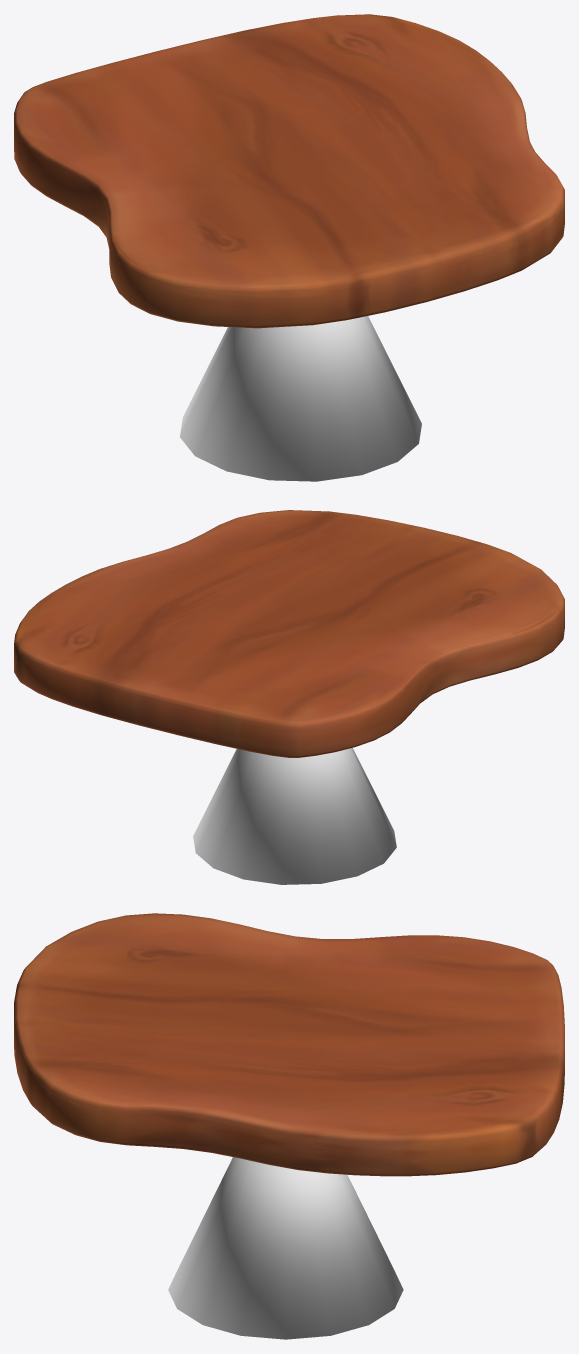
The model's file is SM_Table_low.fbx.
3 views of the same model, one above another, from view 1: azimuth 30°, elevation 25°; view 2: azimuth 150°, elevation 25°; view 3: azimuth 270°, elevation 25° (orthographic). The views are drawn at different scales.
Parts seen in each view (by area): view 1: ShroomTableTop.002, ShroomTableLegCone; view 2: ShroomTableTop.002, ShroomTableLegCone; view 3: ShroomTableTop.002, ShroomTableLegCone.
Part boxes in pixels (<box>): ShroomTableTop.002: <box>14,14,564,328</box>; ShroomTableLegCone: <box>180,316,421,481</box>; ShroomTableTop.002: <box>14,510,564,757</box>; ShroomTableLegCone: <box>193,748,396,884</box>; ShroomTableTop.002: <box>14,913,564,1176</box>; ShroomTableLegCone: <box>168,1157,403,1339</box>.
Bounding box in the file's own units: 188 × 103 × 193.
